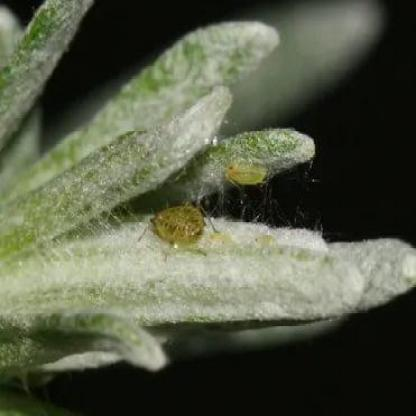aphid: (147, 190, 214, 256), (220, 150, 278, 200)
